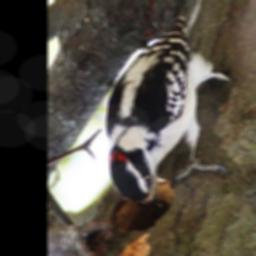Woodpecker: (107, 3, 231, 212)
